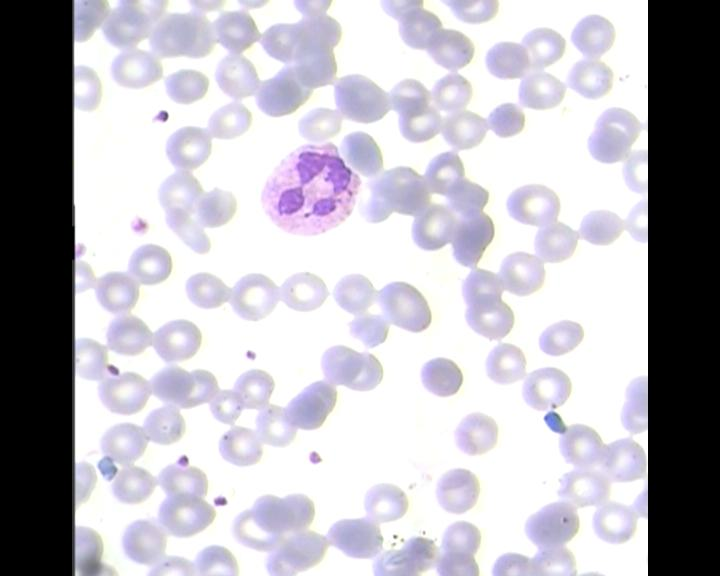neut: (258, 139, 360, 232)
